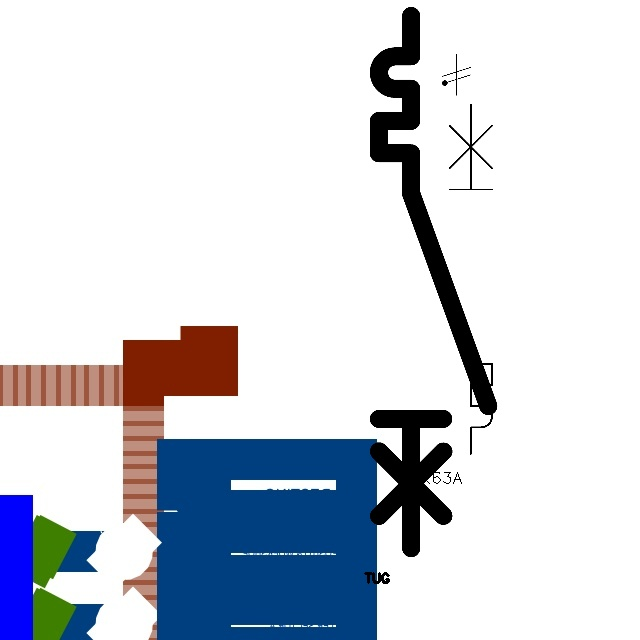interruptor_termomagnetico: (365, 2, 502, 562), (411, 95, 501, 462)
